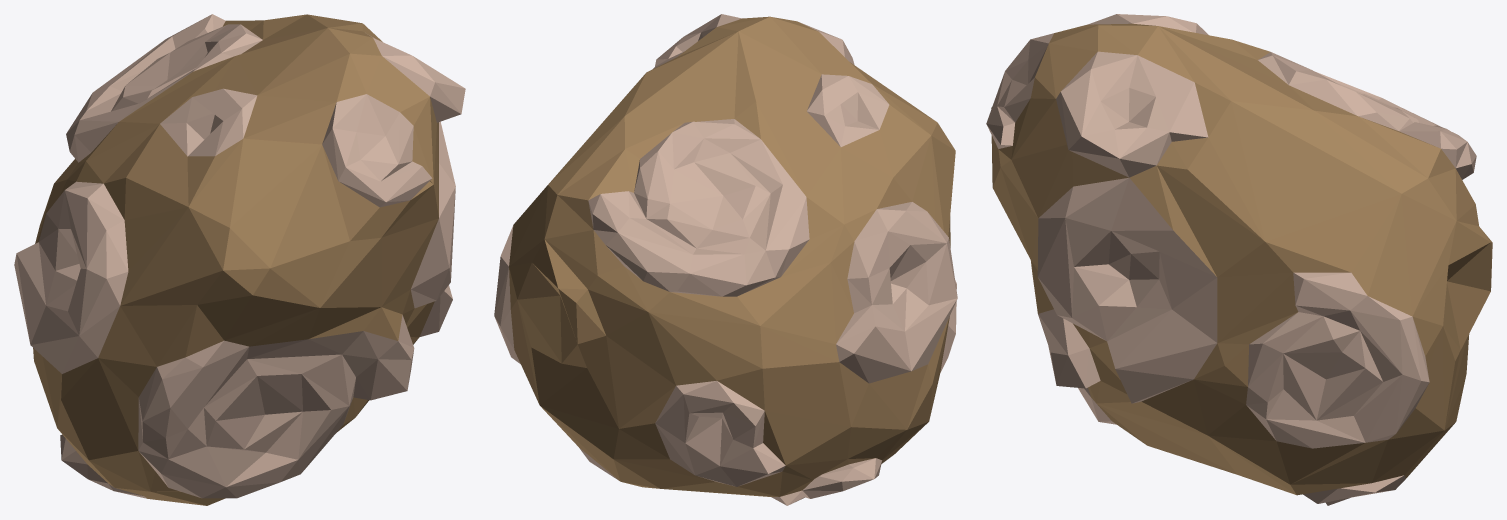
File: SM_LP_FossilNode_3.fbx
3 renders of one model, left to right at view 1: azimuth 30°, elevation 25°; view 2: azimuth 150°, elevation 25°; view 3: azimuth 270°, elevation 25°, orthographic. The views are drawn at different scales.
Parts seen in each view (by area): view 1: SM_LP_FossilNode_3; view 2: SM_LP_FossilNode_3; view 3: SM_LP_FossilNode_3.
Boxes of the visible parts, x1,y1,x2,y2 form: SM_LP_FossilNode_3: (14, 14, 465, 505); SM_LP_FossilNode_3: (494, 14, 957, 505); SM_LP_FossilNode_3: (986, 14, 1492, 505).
Bounding box in the file's own units: 0.8068 × 0.8777 × 0.8379.
